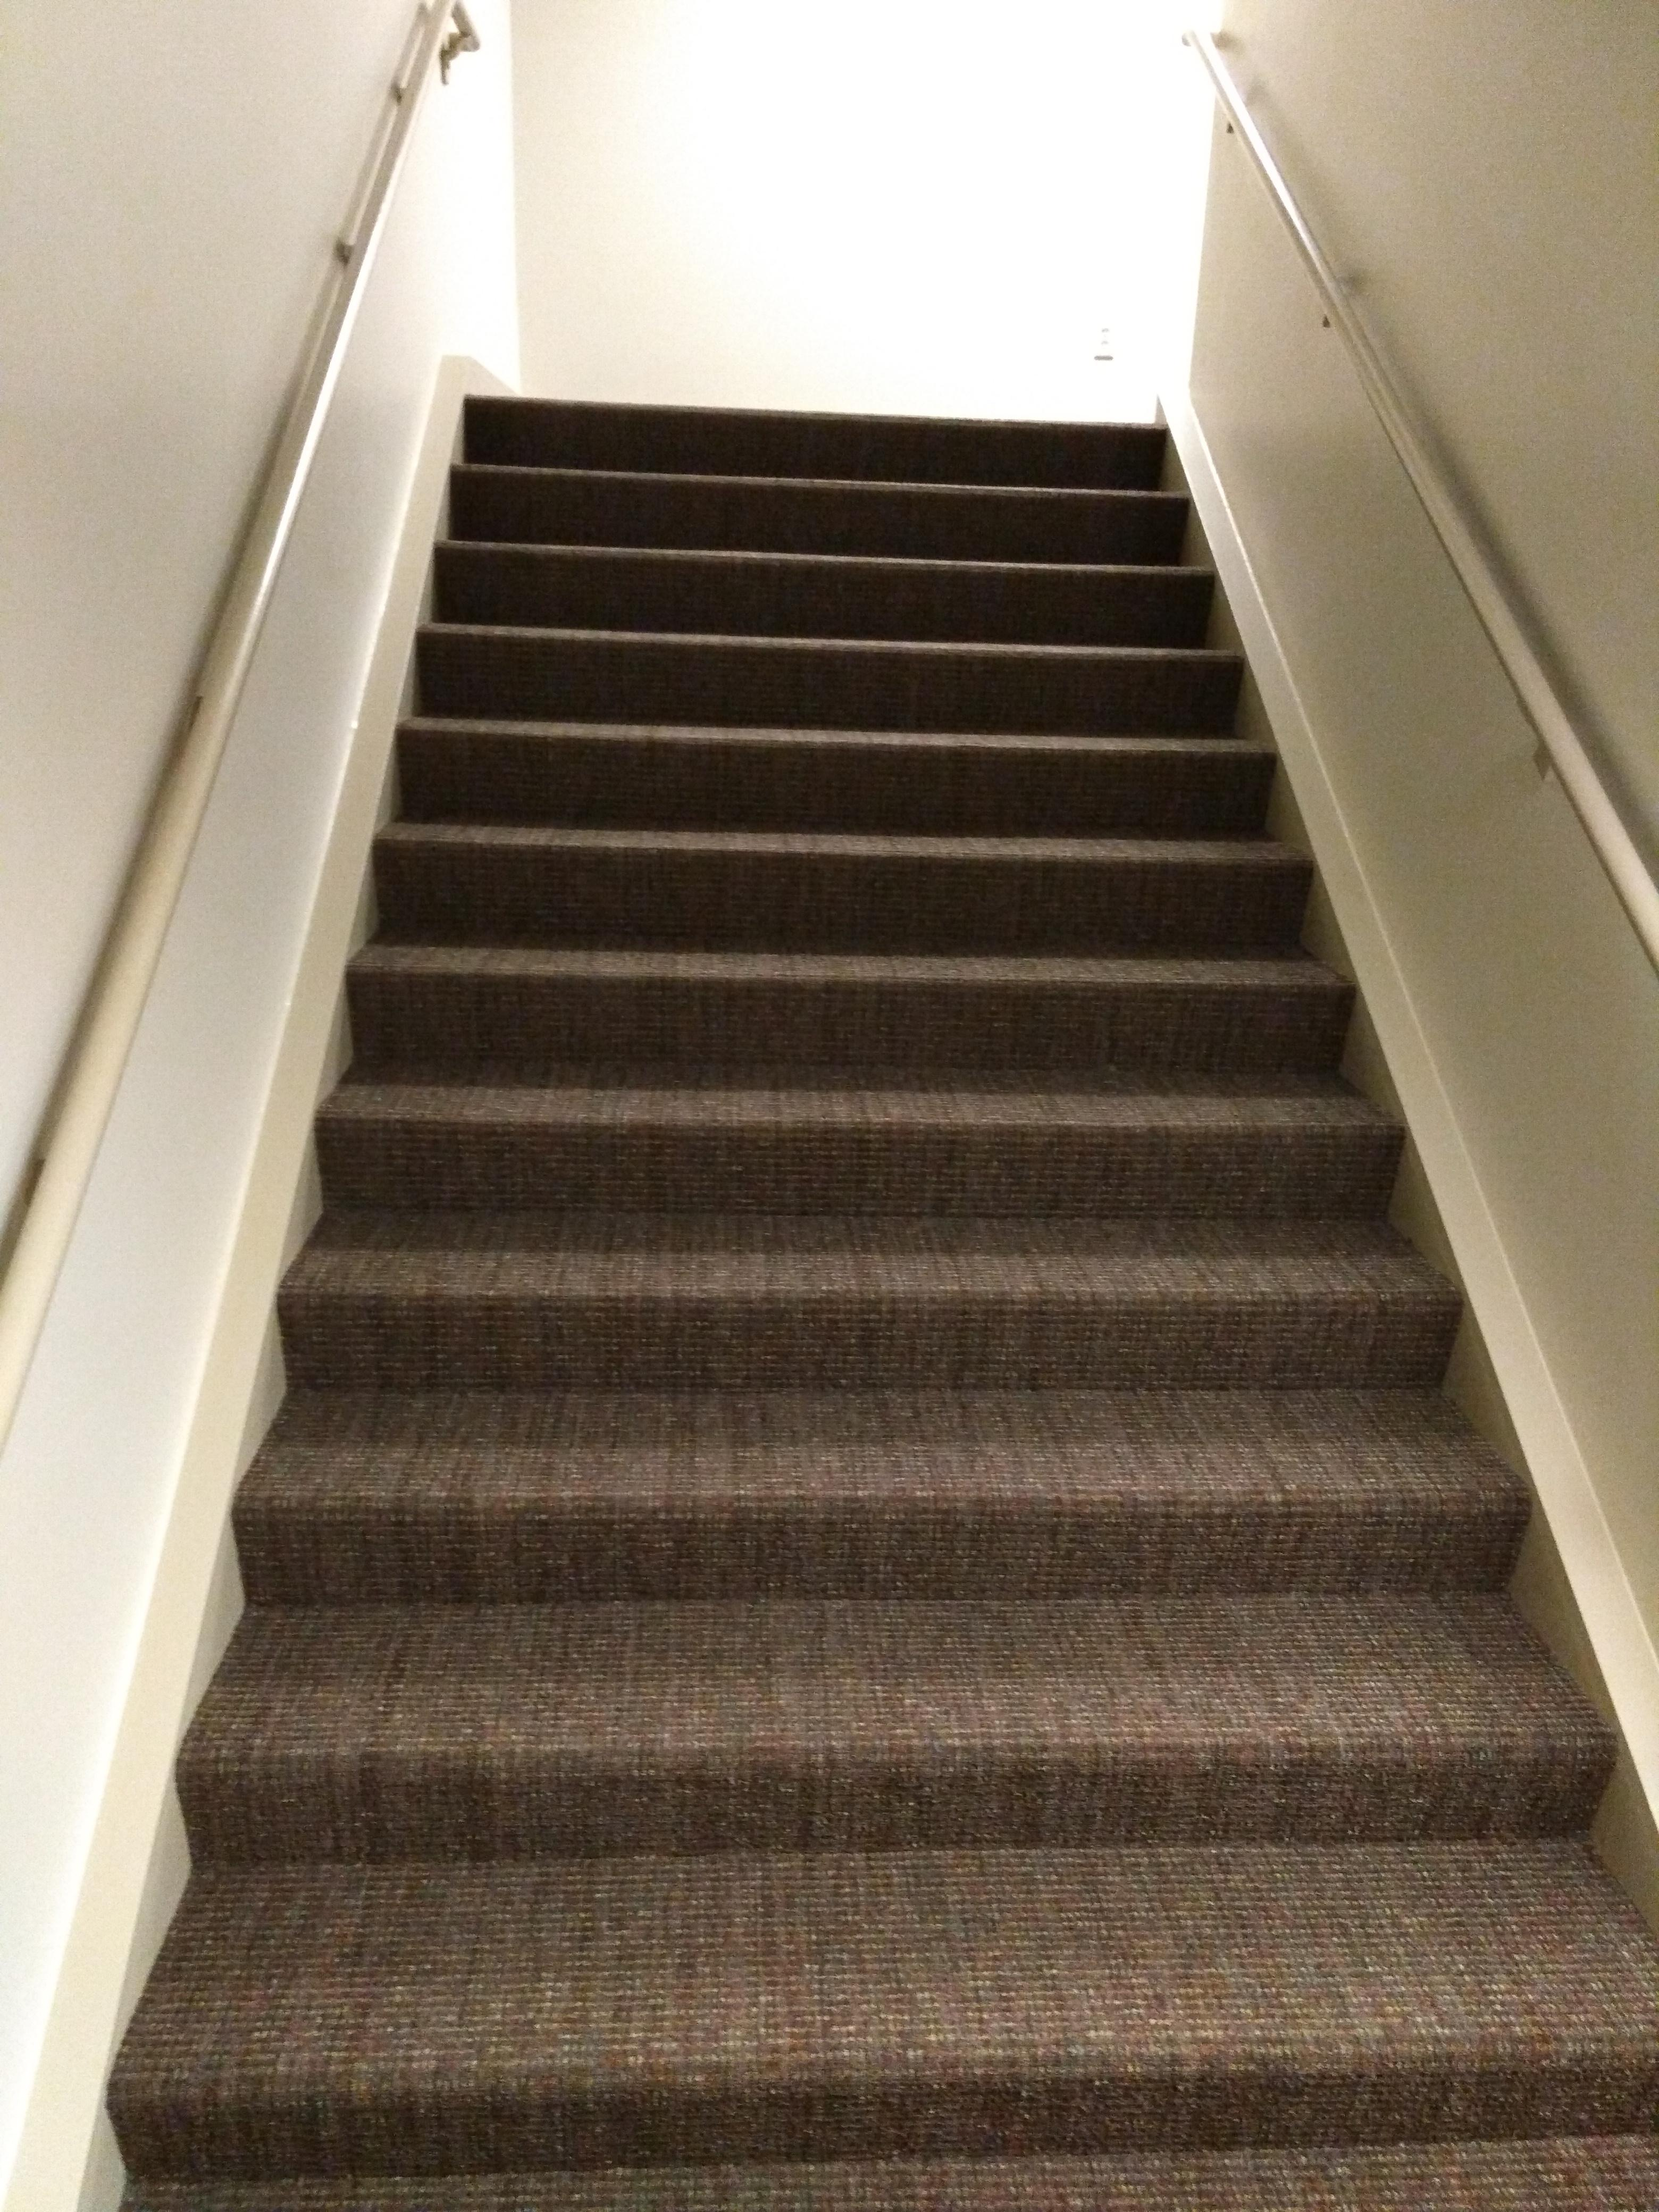stairs_up: (197, 348, 1659, 2161)
